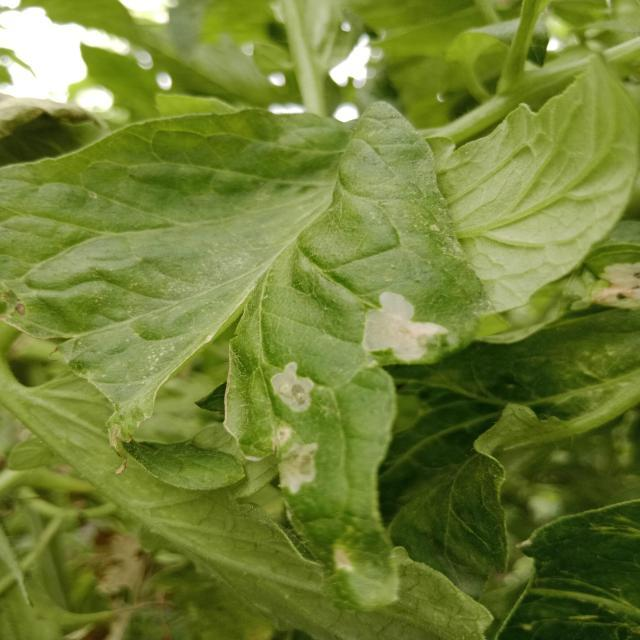Tuta absoluta: (349, 285, 449, 382), (266, 359, 324, 418), (278, 442, 318, 494)
